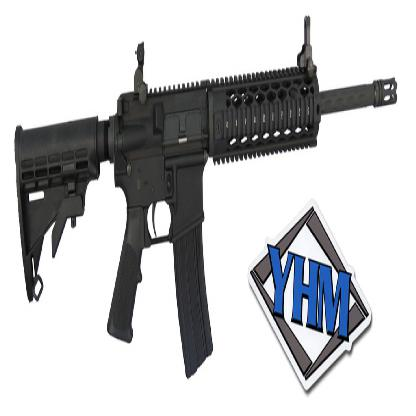Handgun: (13, 13, 397, 378)
